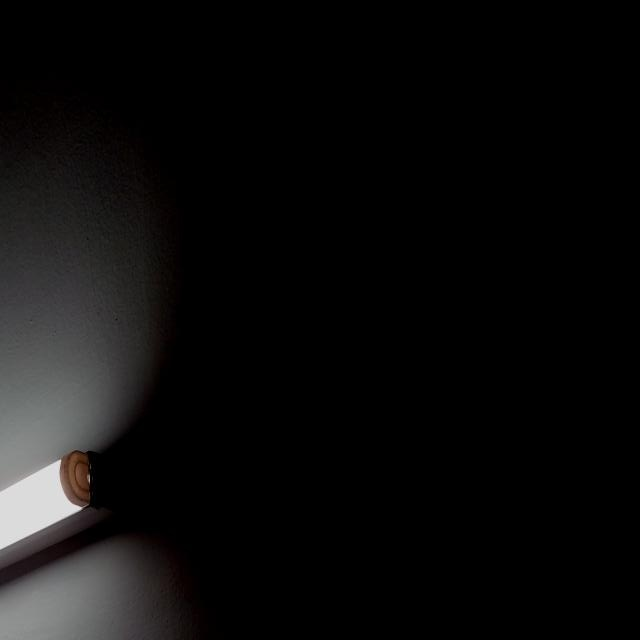fluorescent tube: (0, 383, 159, 640)
